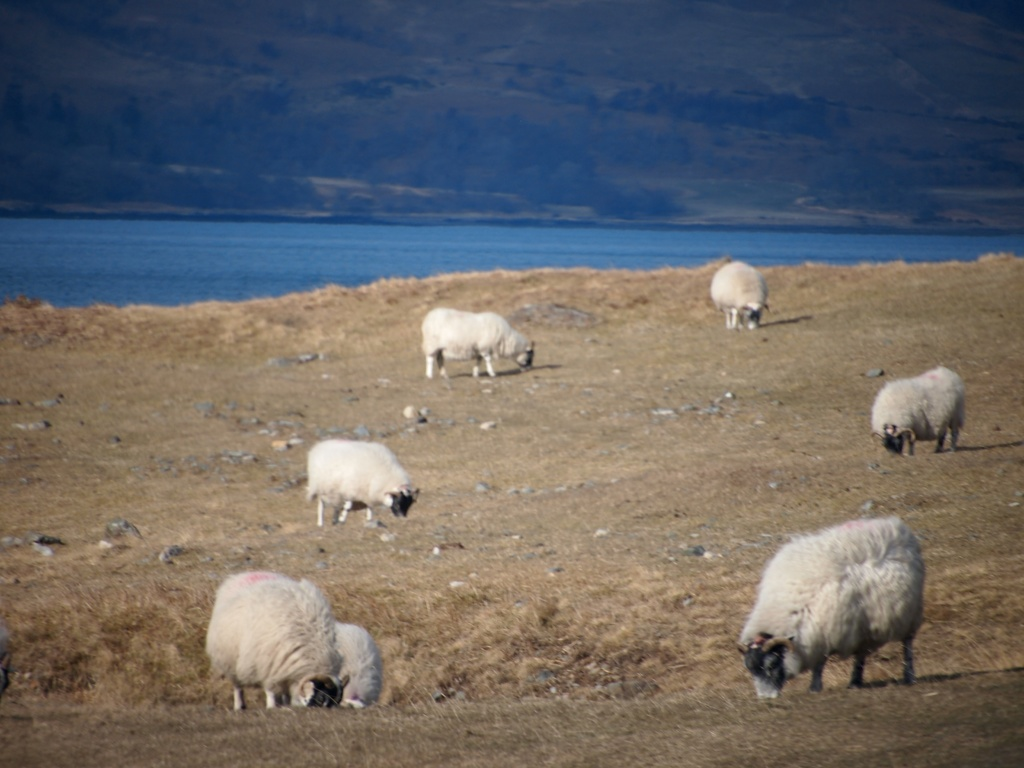sheep: (732, 501, 938, 712), (199, 571, 352, 715), (310, 435, 419, 526), (872, 362, 965, 457), (425, 303, 538, 375), (707, 256, 771, 326)
